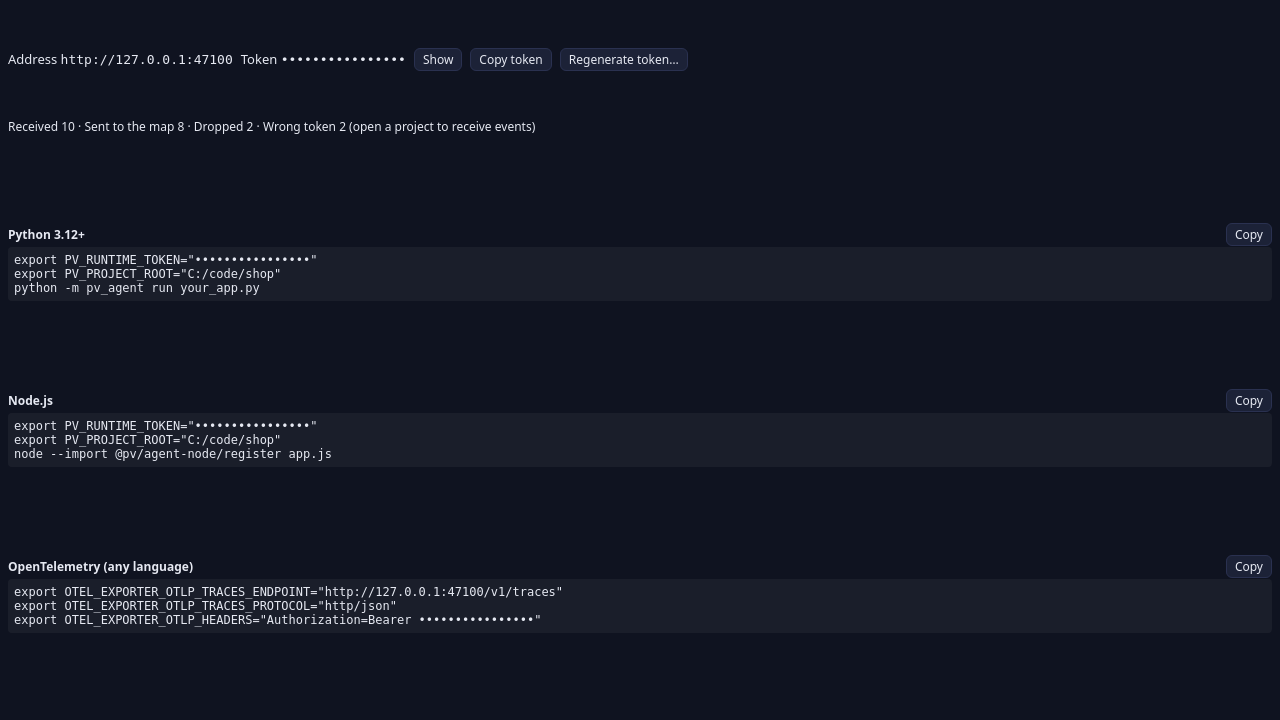
Test: ConnectPanel › regenerates the token after confirmation
The image size is (1280, 720).
Click the button "Regenerate token…" at (624, 59), box [560,48,688,70]
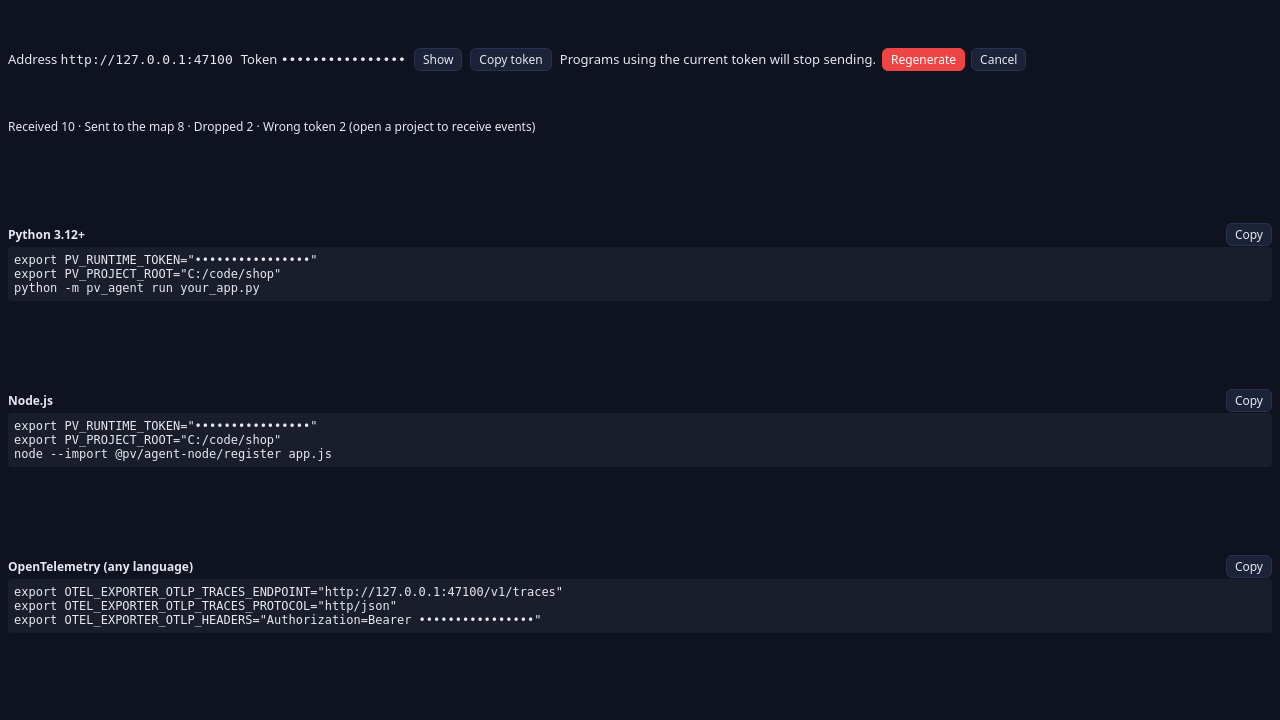
Click the button "Regenerate" at (924, 59), box [882,48,965,70]
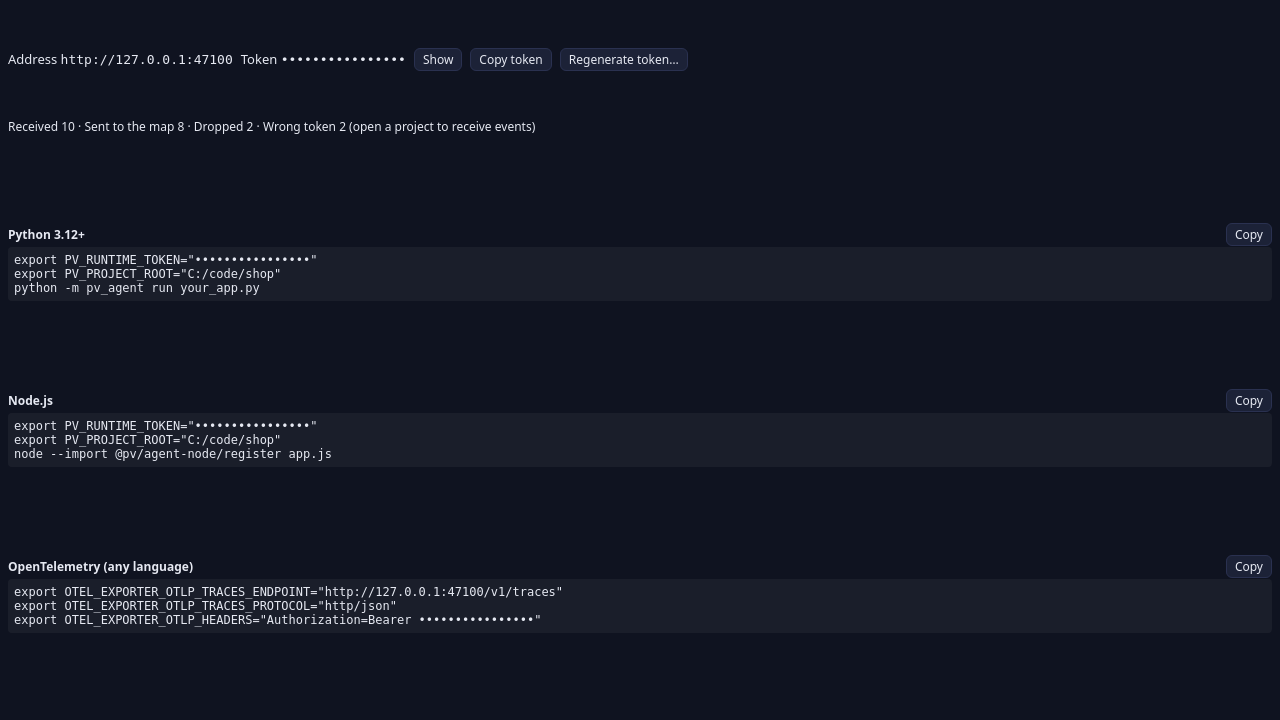
Click the button "Show" at (438, 59), box [414,48,462,70]
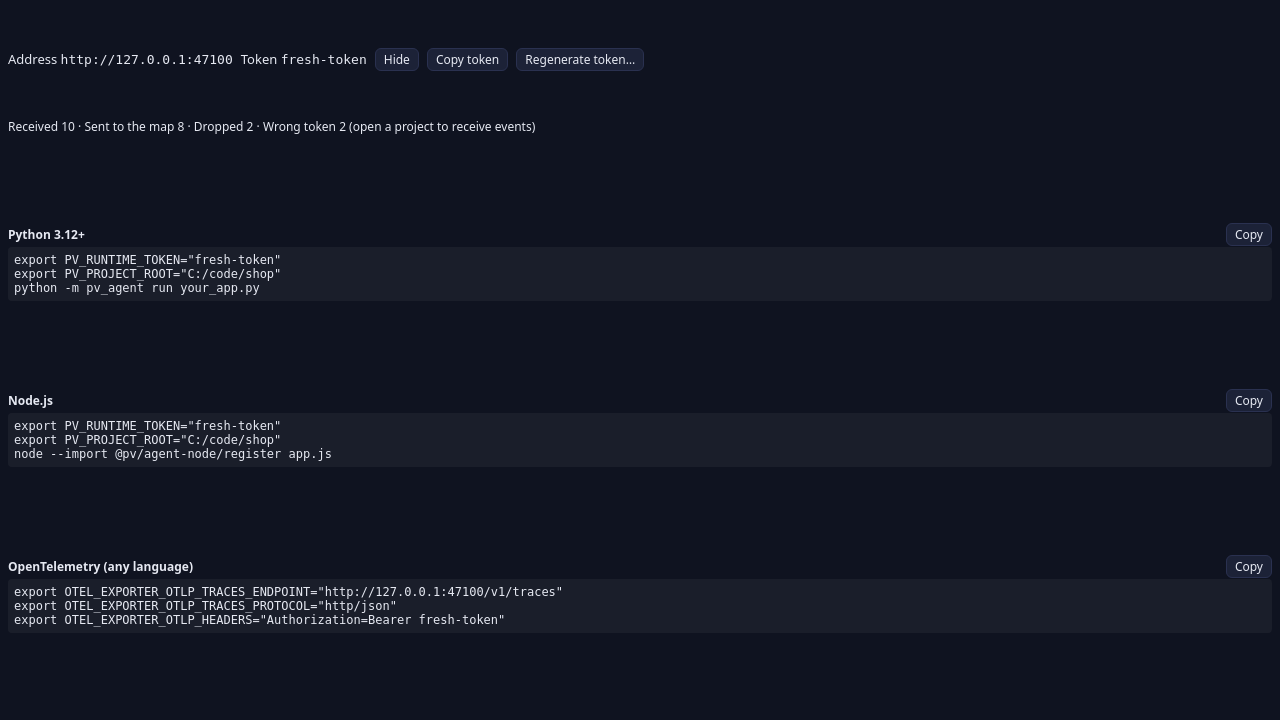
Check: the text labelled "token" reads "fresh-token", box [281,52,367,67]
